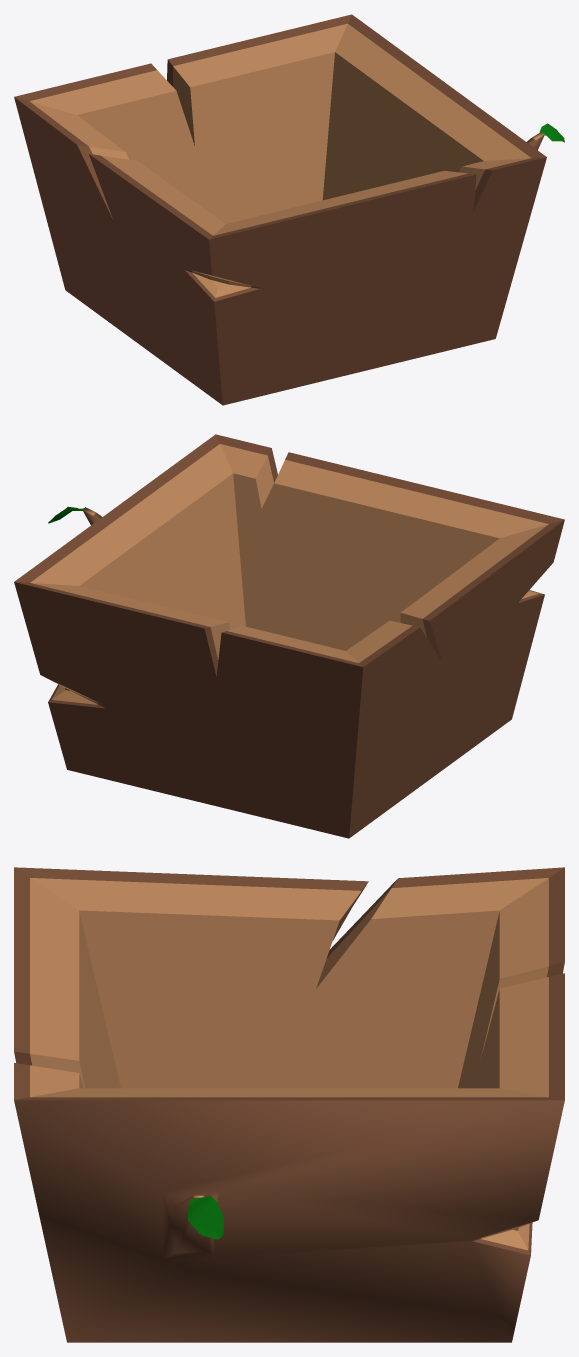
The model's file is FeederSmall.fbx.
3 views of the same model, one above another, from view 1: azimuth 30°, elevation 25°; view 2: azimuth 150°, elevation 25°; view 3: azimuth 270°, elevation 25° (orthographic). The views are drawn at different scales.
Parts seen in each view (by area): view 1: Cube.014; view 2: Cube.014; view 3: Cube.014.
Boxes of the visible parts, x1=… form: Cube.014: x1=14, y1=14, x2=564, y2=405; Cube.014: x1=14, y1=434, x2=564, y2=838; Cube.014: x1=14, y1=867, x2=564, y2=1342.
Size of the model in its own units: 253 by 106 by 200.
